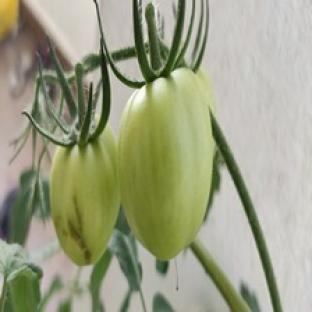Tomato: (119, 69, 213, 260), (51, 124, 119, 266), (197, 67, 215, 114)
